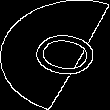O_SE: (10, 25, 100, 85)
